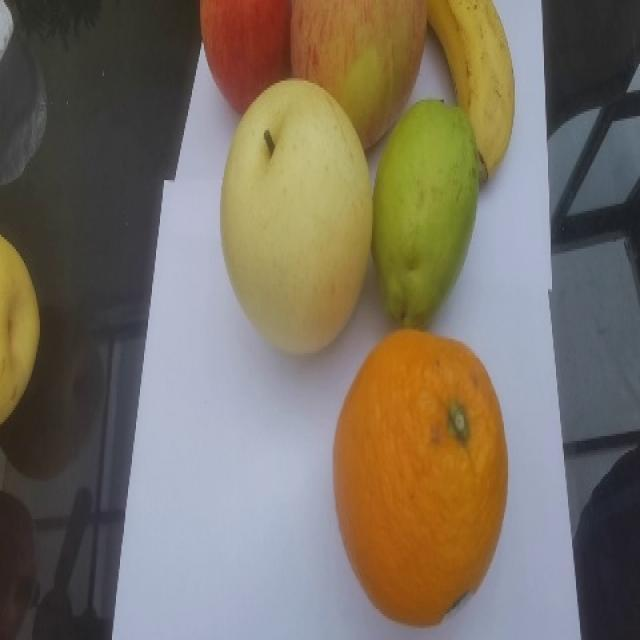Apple: (289, 0, 428, 151), (199, 0, 291, 114)
Banana: (426, 0, 515, 184)
Orange: (331, 327, 509, 627)
